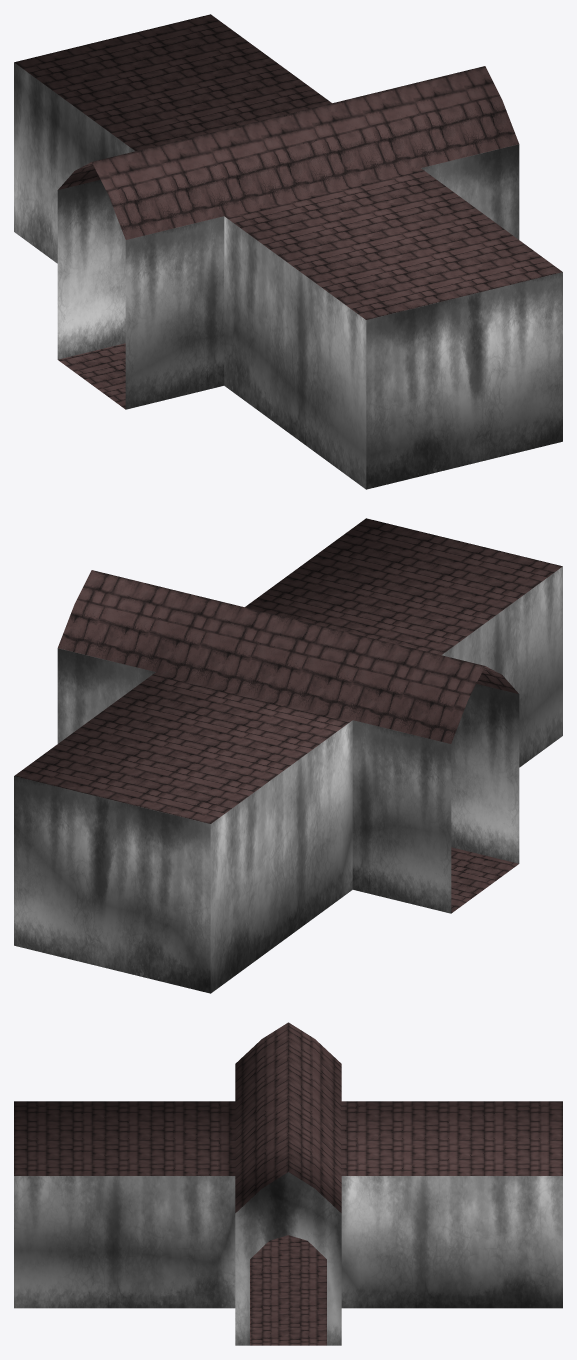
Rendered from MOD_L1_Prison_03.fbx.
The picture shows the model from 3 angles, top to bottom: view 1: azimuth 30°, elevation 25°; view 2: azimuth 150°, elevation 25°; view 3: azimuth 270°, elevation 25°; orthographic projection. The views are drawn at different scales.
Parts seen in each view (by area): view 1: prisonBlock03; view 2: prisonBlock03; view 3: prisonBlock03.
Part boxes in pixels (<box>): prisonBlock03: <box>14,14,562,489</box>; prisonBlock03: <box>14,518,562,993</box>; prisonBlock03: <box>14,1022,562,1345</box>.
Bounding box in the file's own units: 160 × 87.19 × 248.
